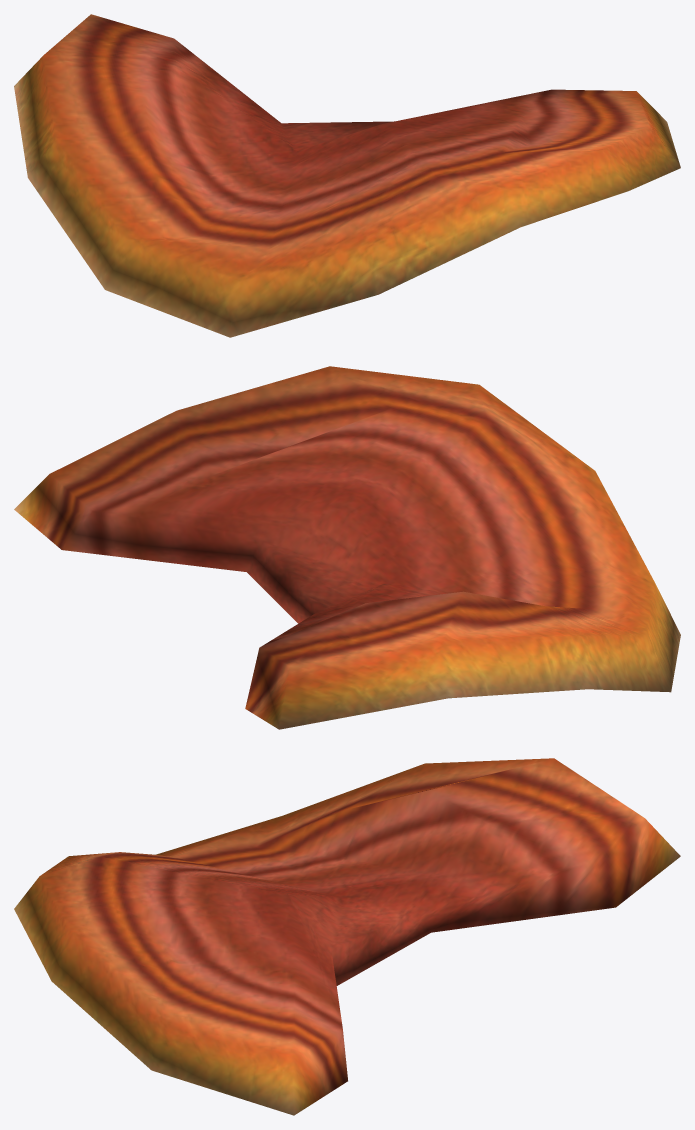
File: conks 1.fbx
The picture shows the model from 3 angles, top to bottom: view 1: azimuth 30°, elevation 25°; view 2: azimuth 150°, elevation 25°; view 3: azimuth 270°, elevation 25°; orthographic projection. The views are drawn at different scales.
Parts seen in each view (by area): view 1: conks_1; view 2: conks_1; view 3: conks_1.
Boxes of the visible parts, x1=… form: conks_1: x1=14, y1=14, x2=680, y2=337; conks_1: x1=14, y1=366, x2=680, y2=729; conks_1: x1=14, y1=758, x2=680, y2=1115.
Size of the model in its own units: 0.7774 by 0.1771 by 0.7517.
